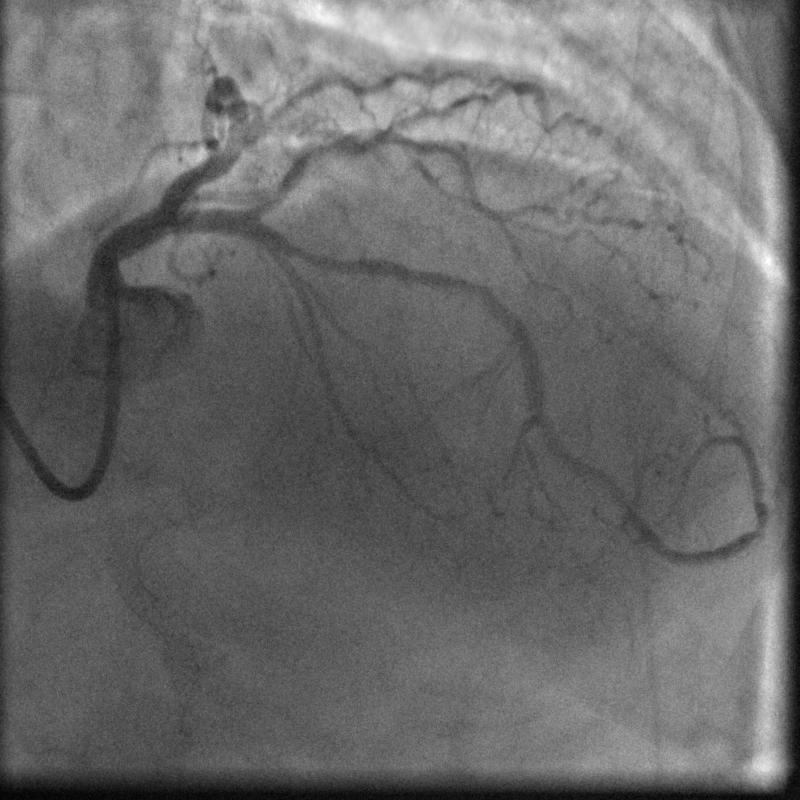Stenosis: (292, 234, 352, 281)
